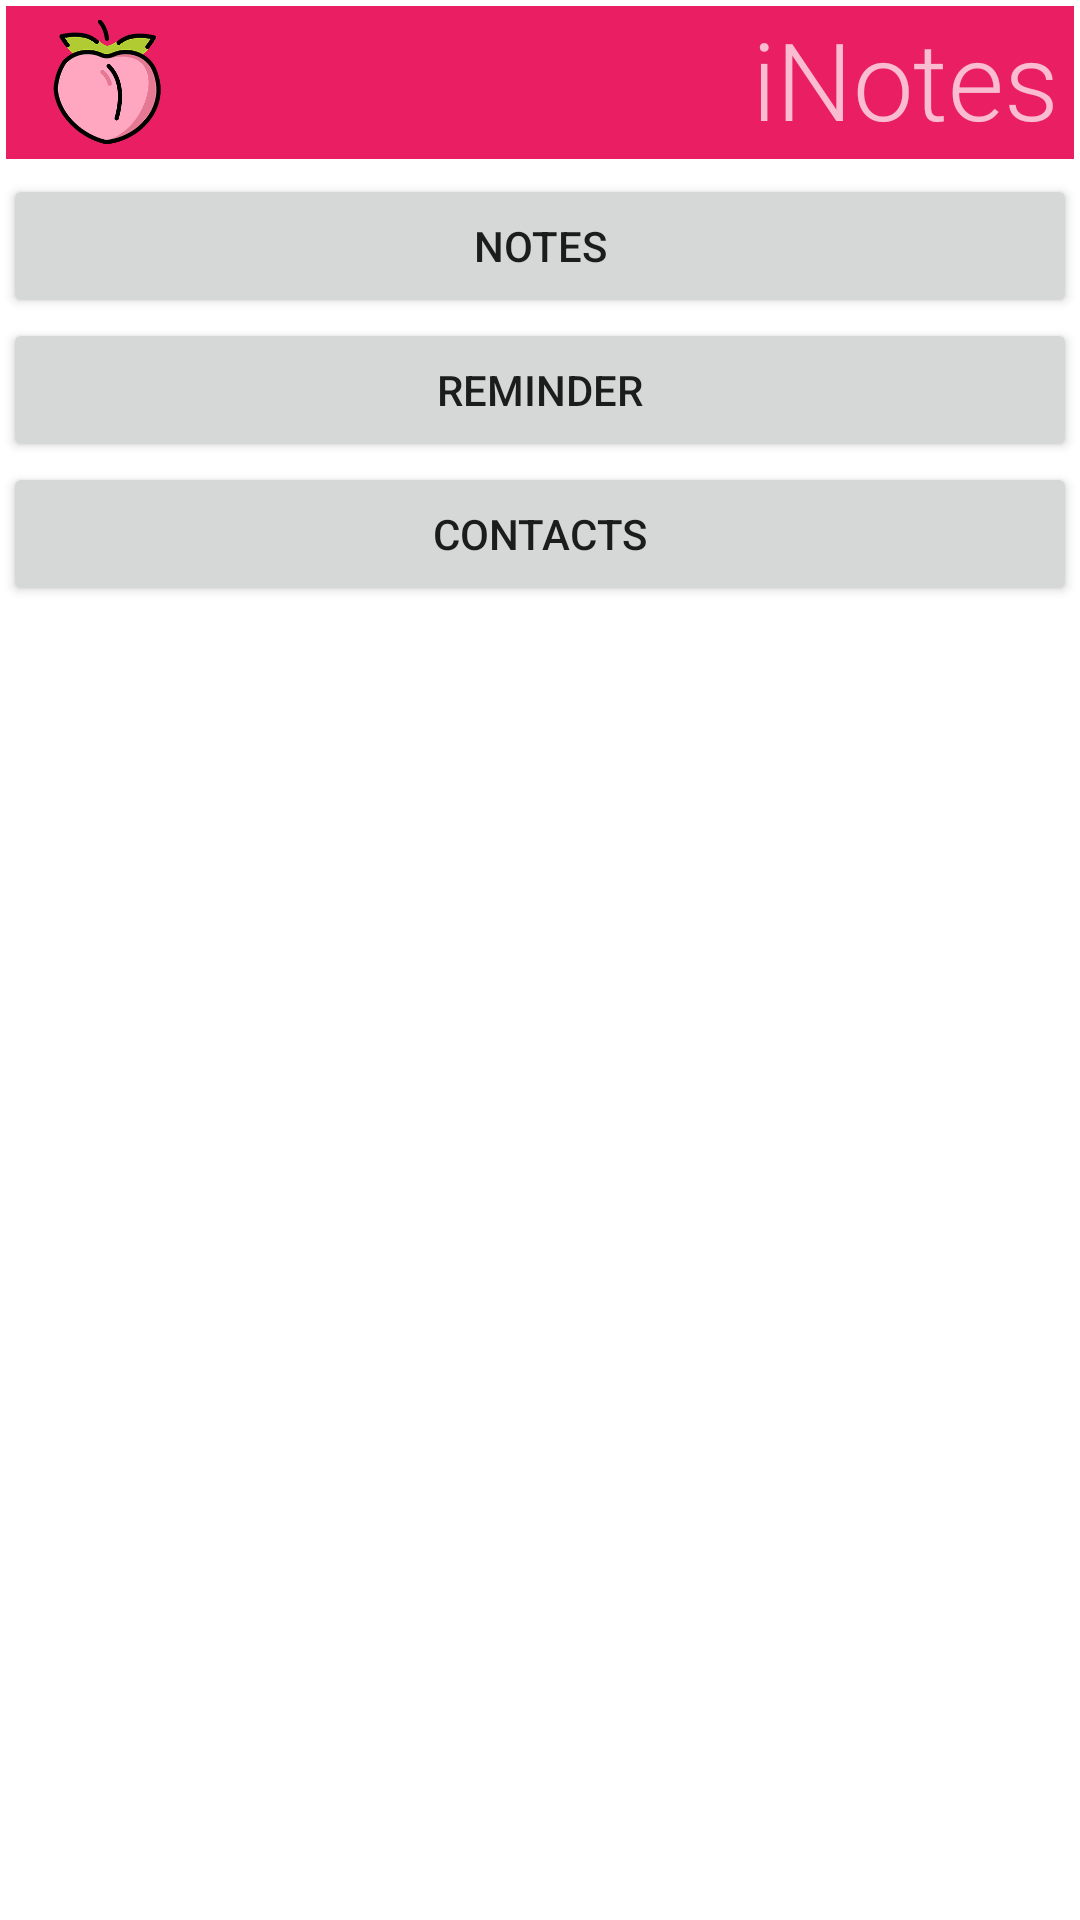

Where to tap for icons on this 1080x1920 app screen, as point (x, y):
peach: point (106, 82)
